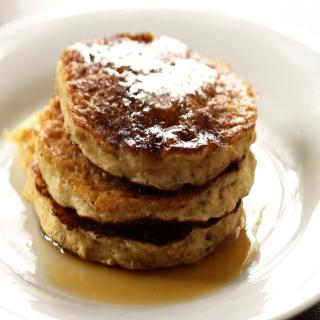Pancake: (55, 33, 256, 185)
